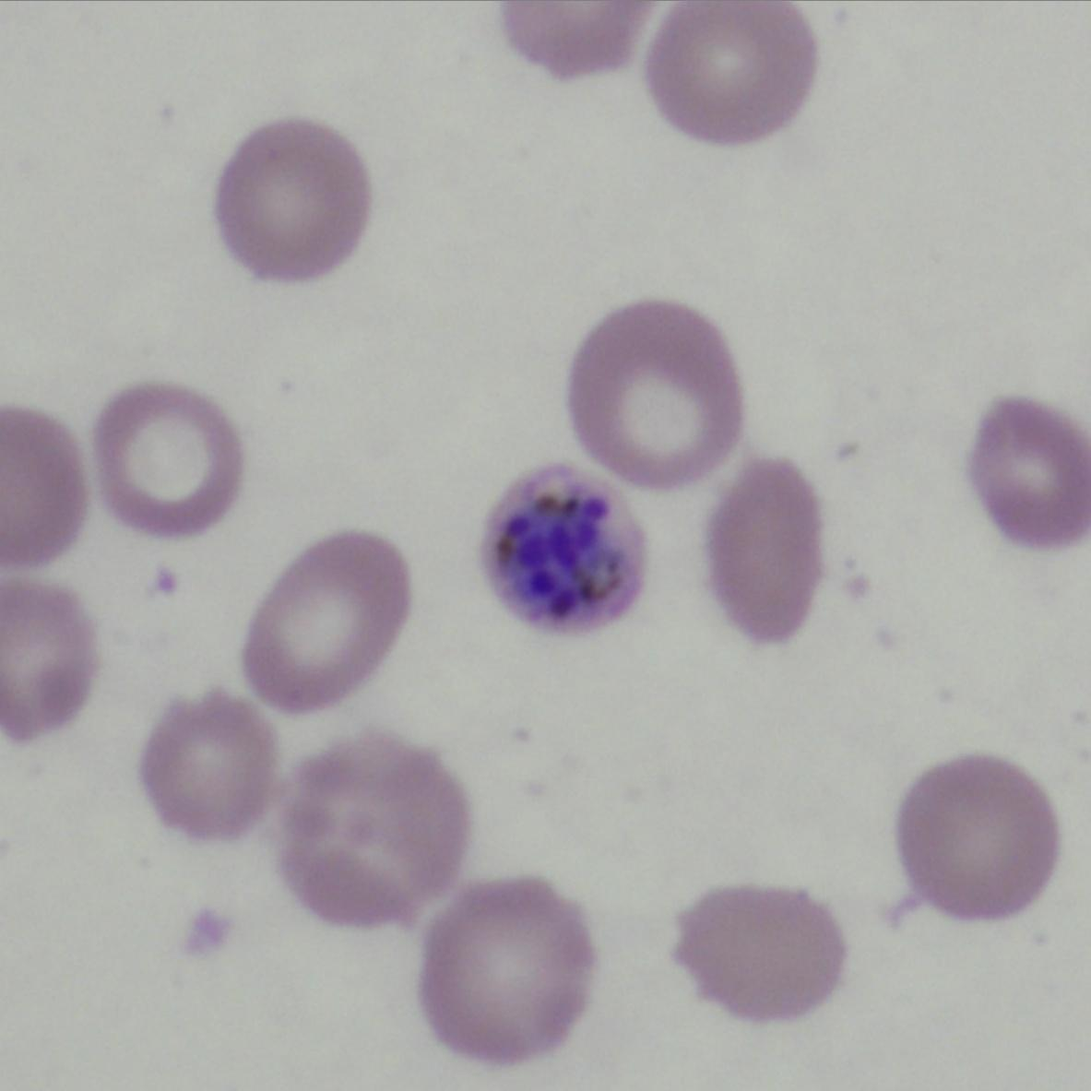Infected: (476, 459, 649, 641)
Uninfected: (267, 733, 470, 918), (412, 874, 597, 1063), (243, 524, 417, 717), (563, 302, 743, 485), (898, 745, 1061, 928), (667, 880, 847, 1029), (218, 112, 368, 288), (642, 1, 815, 147), (132, 693, 288, 852), (83, 382, 245, 528), (704, 456, 817, 645), (968, 398, 1091, 549)
